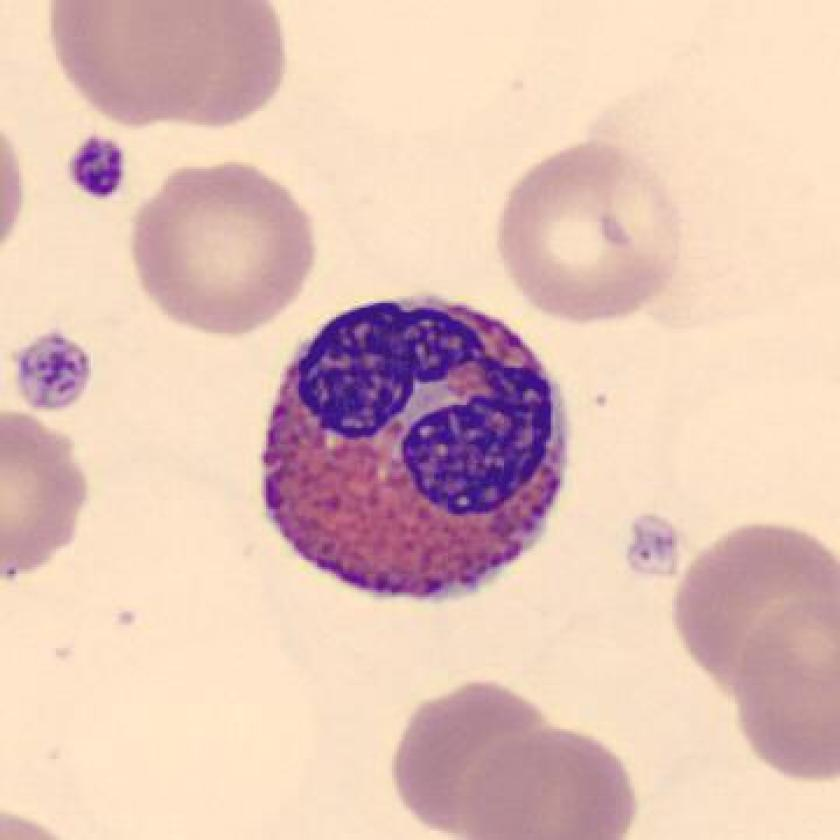eosinophil: (251, 281, 584, 614)
